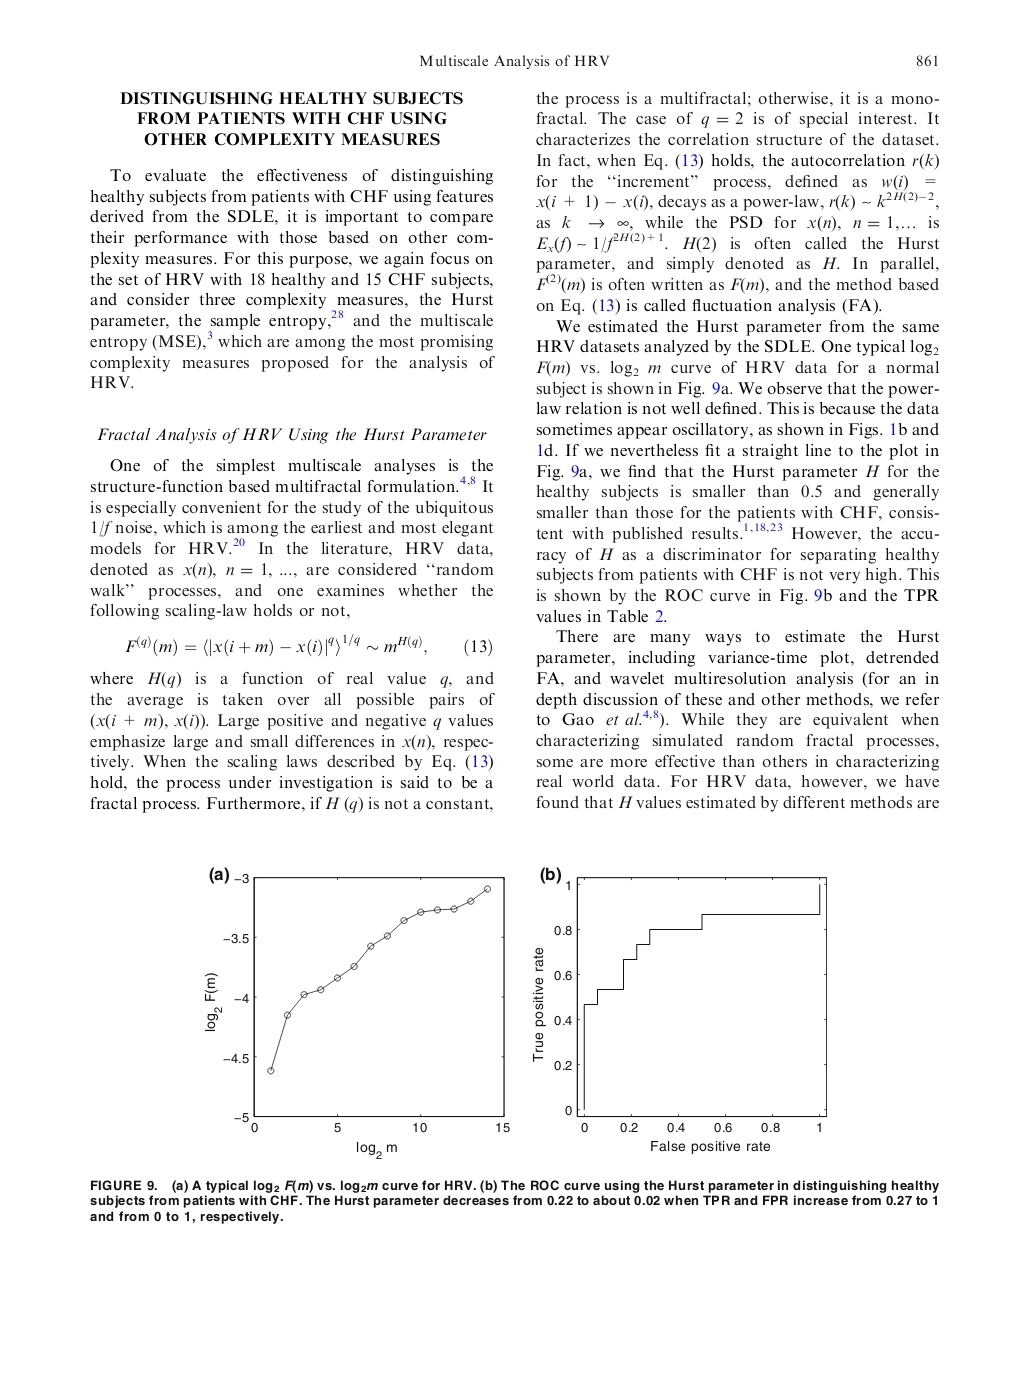figure: (204, 867, 509, 1158), (533, 867, 826, 1153)
formula: (126, 633, 491, 657)
